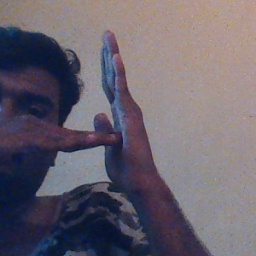Z: (41, 26, 164, 194)
